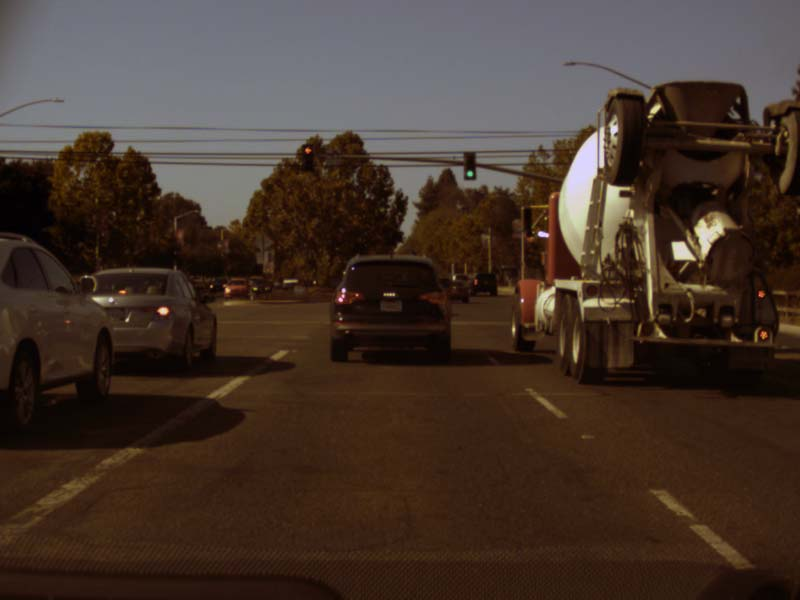Green: (463, 150, 475, 180)
Red: (302, 145, 314, 171)
